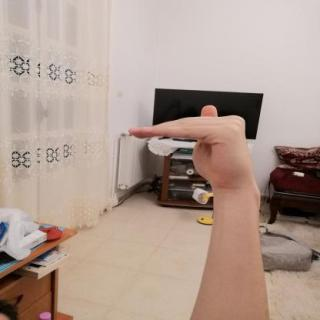KHAA: (117, 98, 271, 200)
